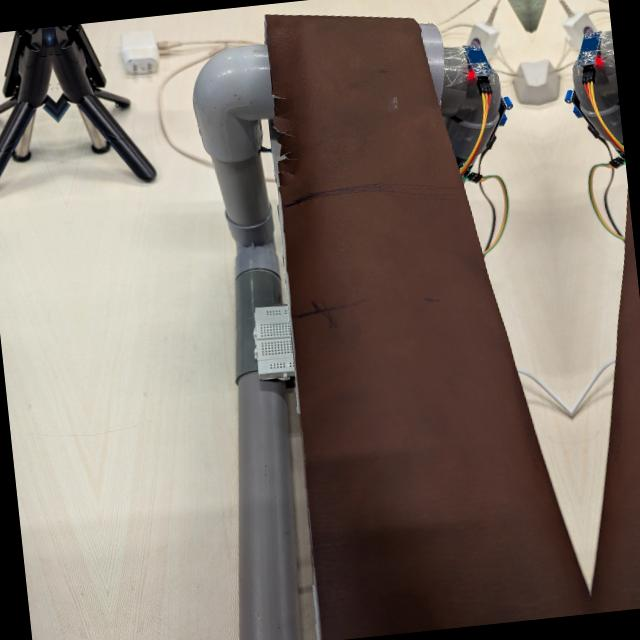edge_damage: (231, 80, 303, 200)
